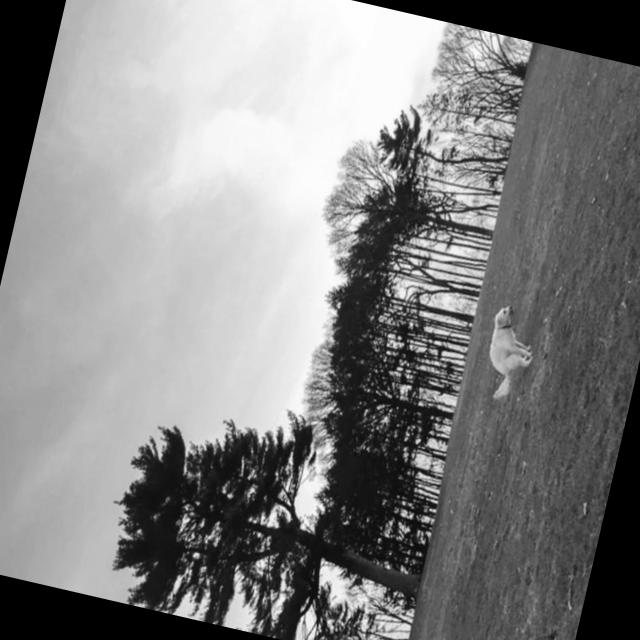squatting: (471, 298, 547, 411)
